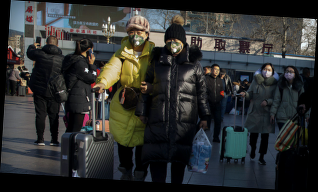with_mask: (127, 30, 147, 48), (166, 37, 184, 55), (261, 67, 273, 79), (284, 69, 296, 81)
without_mask: (211, 68, 220, 77)
